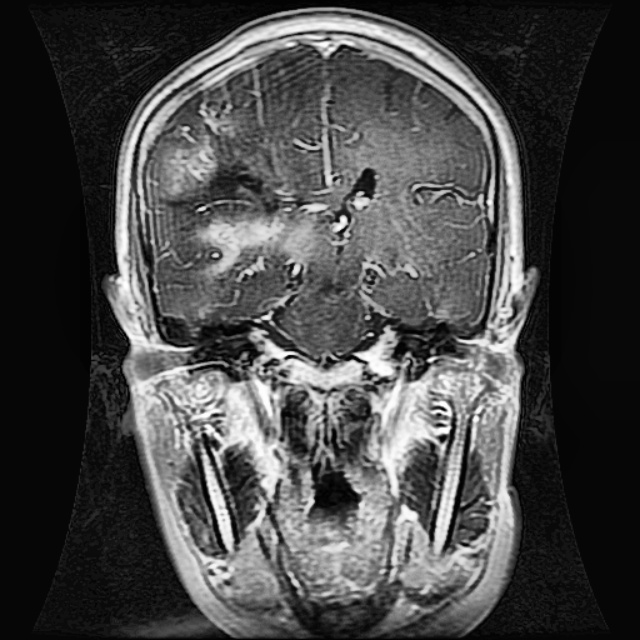Meningioma: (194, 158, 318, 274)
